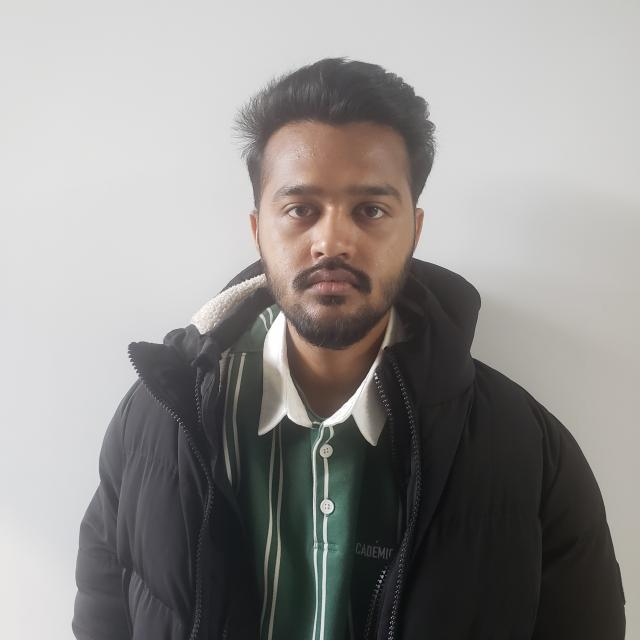sad: (244, 55, 431, 358)
